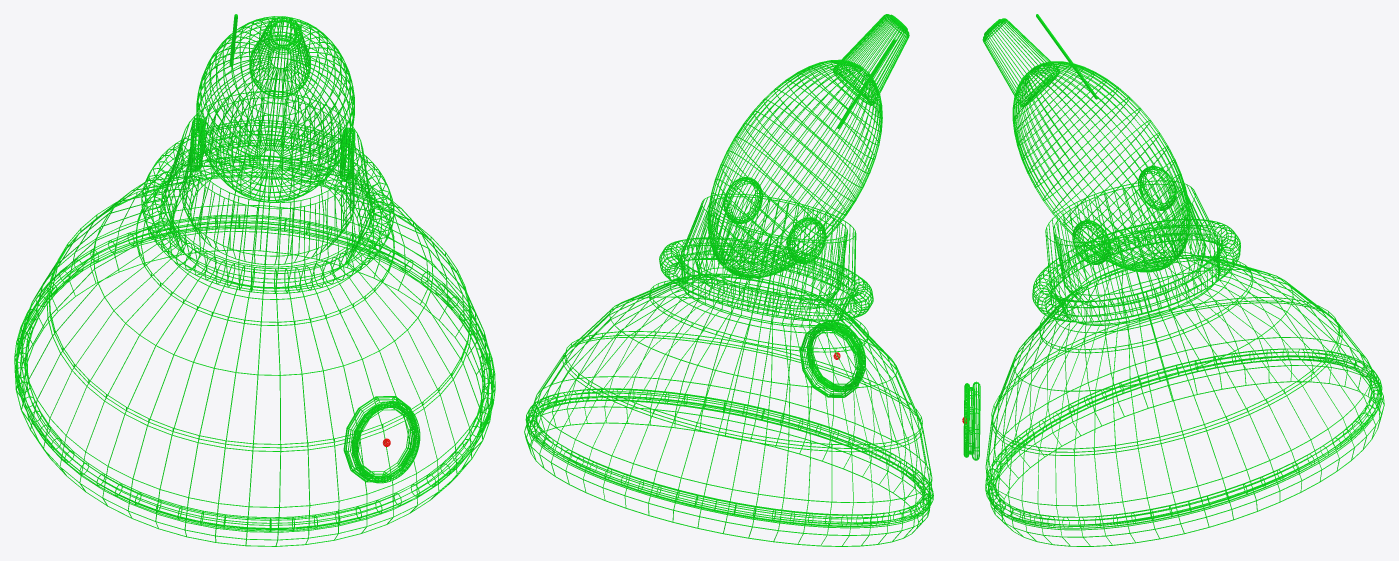
The model's file is photon-turret-highlight-armoured-tracking-receiver.glb.
3 views of the same model, side by side, from view 1: azimuth 30°, elevation 25°; view 2: azimuth 150°, elevation 25°; view 3: azimuth 270°, elevation 25° (orthographic). The views are drawn at different scales.
Parts seen in each view (by area): view 1: elastoplastic-fixed-base technical wire, strengthened-photon-barrel technical wire, chassis technical wire; view 2: elastoplastic-fixed-base technical wire, strengthened-photon-barrel technical wire, chassis technical wire; view 3: elastoplastic-fixed-base technical wire, strengthened-photon-barrel technical wire, chassis technical wire.
Boxes of the visible parts, x1,y1,x2,y2 form: elastoplastic-fixed-base technical wire: (14, 120, 495, 546); strengthened-photon-barrel technical wire: (189, 14, 355, 202); chassis technical wire: (165, 91, 371, 287); elastoplastic-fixed-base technical wire: (524, 237, 933, 546); strengthened-photon-barrel technical wire: (707, 14, 909, 278); chassis technical wire: (680, 193, 856, 327); elastoplastic-fixed-base technical wire: (963, 219, 1384, 546); strengthened-photon-barrel technical wire: (982, 14, 1190, 272); chassis technical wire: (1045, 180, 1219, 325).
Bounding box in the file's own units: 2.01 × 2.48 × 2.07.
